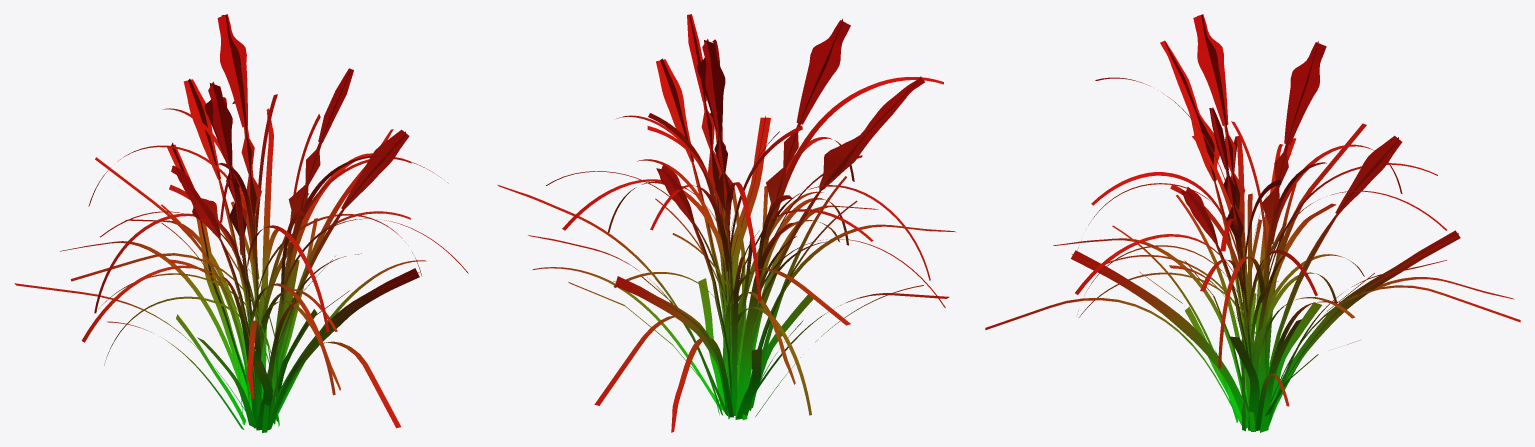
File: slfpffjr_Var1_LOD0.fbx
3 renders of one model, left to right at view 1: azimuth 30°, elevation 25°; view 2: azimuth 150°, elevation 25°; view 3: azimuth 270°, elevation 25°, orthographic. The views are drawn at different scales.
Visible parts, largest first — view 1: _5ef5_Var1_LOD0; view 2: _5ef5_Var1_LOD0; view 3: _5ef5_Var1_LOD0.
Boxes of the visible parts, left/top/right/bottom form: _5ef5_Var1_LOD0: left=14, top=14, right=468, bottom=432; _5ef5_Var1_LOD0: left=497, top=14, right=956, bottom=432; _5ef5_Var1_LOD0: left=985, top=14, right=1520, bottom=432.
Bounding box in the file's own units: 70.1 × 63.83 × 80.78.
